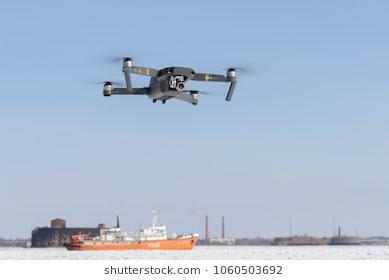drone: (87, 42, 247, 124)
